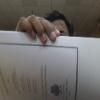notebook: (0, 30, 99, 99)
